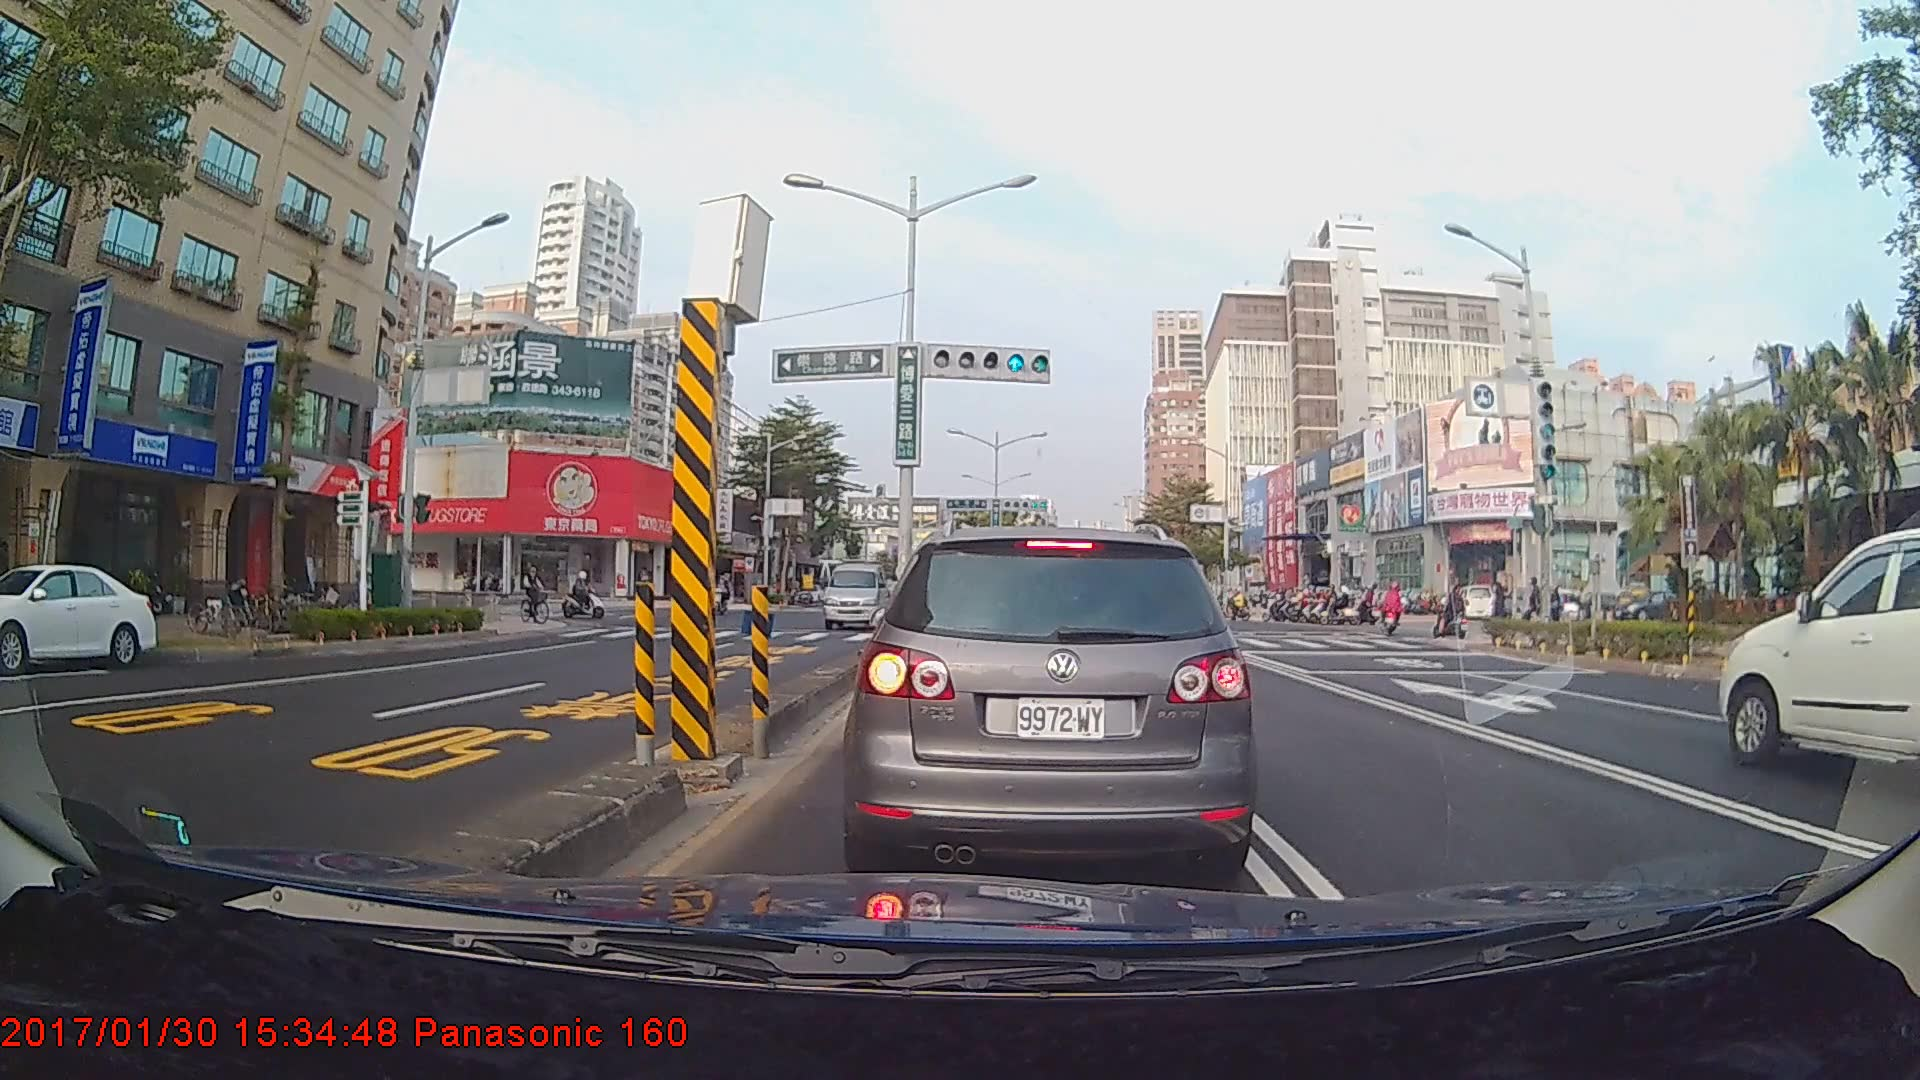pedestrian: (1491, 579, 1515, 637)
rider: (563, 568, 615, 625), (518, 559, 558, 629), (1436, 582, 1473, 646), (1383, 580, 1410, 640)
vehicle: (854, 523, 1249, 881), (1715, 521, 1920, 795), (0, 561, 159, 671), (821, 553, 890, 630)
